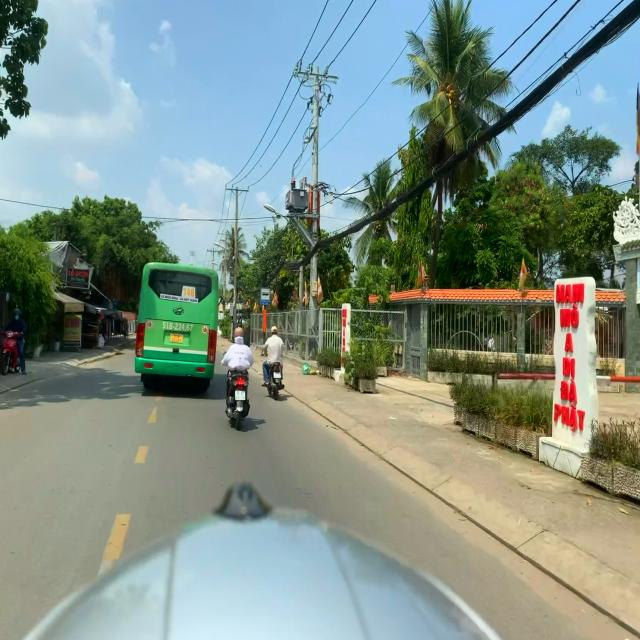Ben xe buyt: (260, 287, 270, 305)
